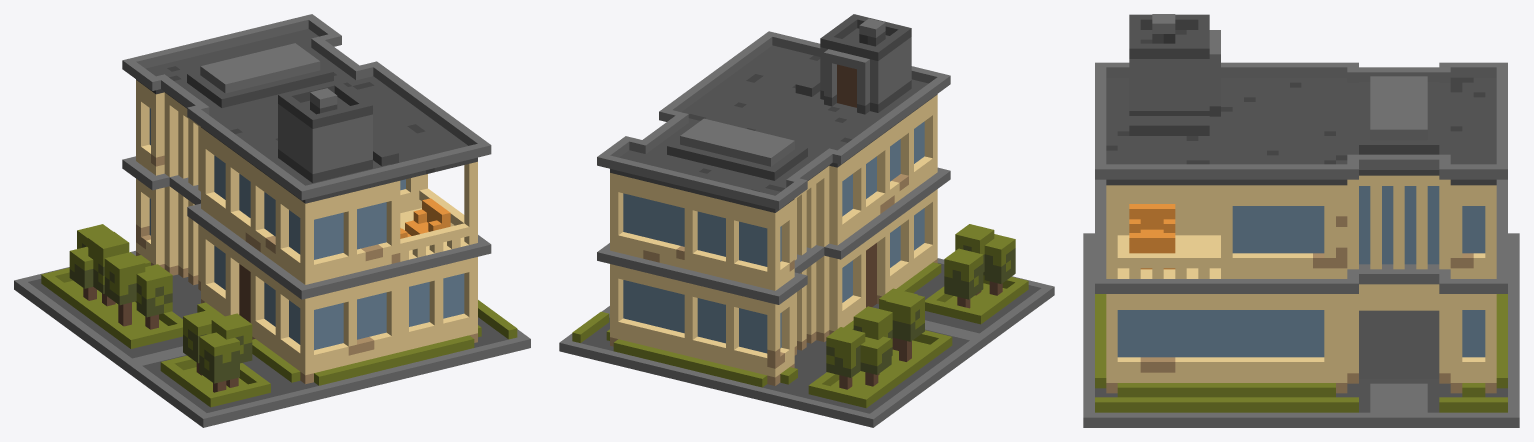
3 renders of one model, left to right at view 1: azimuth 30°, elevation 25°; view 2: azimuth 150°, elevation 25°; view 3: azimuth 270°, elevation 25°, orthographic. The views are drawn at different scales.
Parts seen in each view (by area): view 1: b_38_01; view 2: b_38_01; view 3: b_38_01.
Part boxes in pixels (x1,y1,x2,y2): b_38_01: (14,14,530,427); b_38_01: (559,14,1054,427); b_38_01: (1083,14,1519,427).
Size of the model in its own units: 38 by 30 by 38.
Materials: 1 (1 with a texture image).
